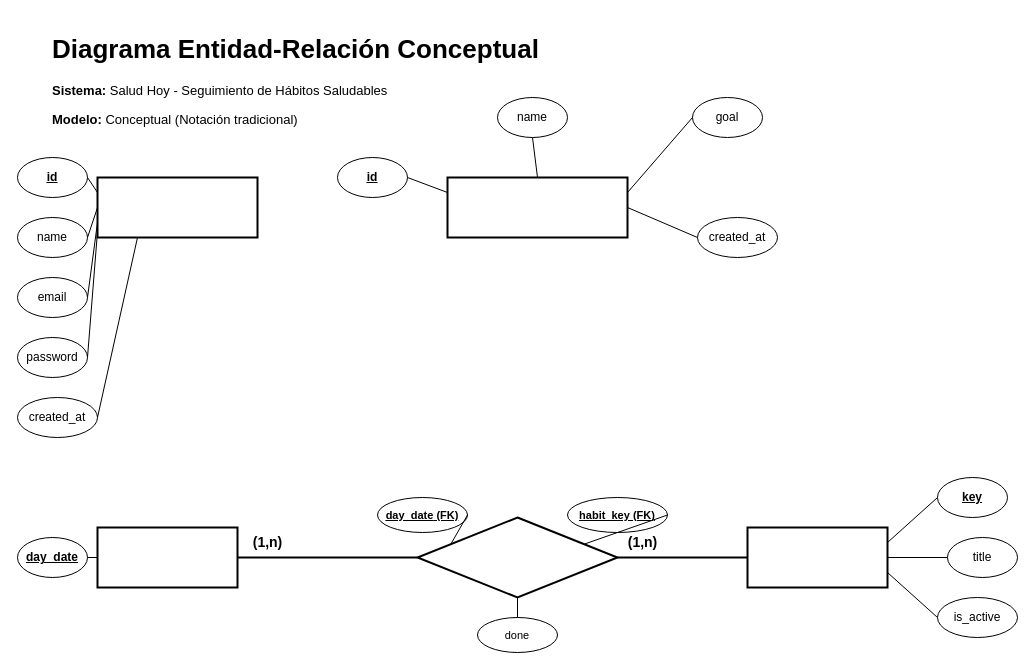
Image size: 1035x670. Some labels were removed from this diagram. The shapes that lost their labels are listed below. From the top down, each one's centre as x and y in pixels, then its label:
At point 177,207: "users".
At point 537,207: "usuario_perfil".
At point 167,557: "dia".
At point 517,557: "habitos_dia".
At point 817,557: "habito".
